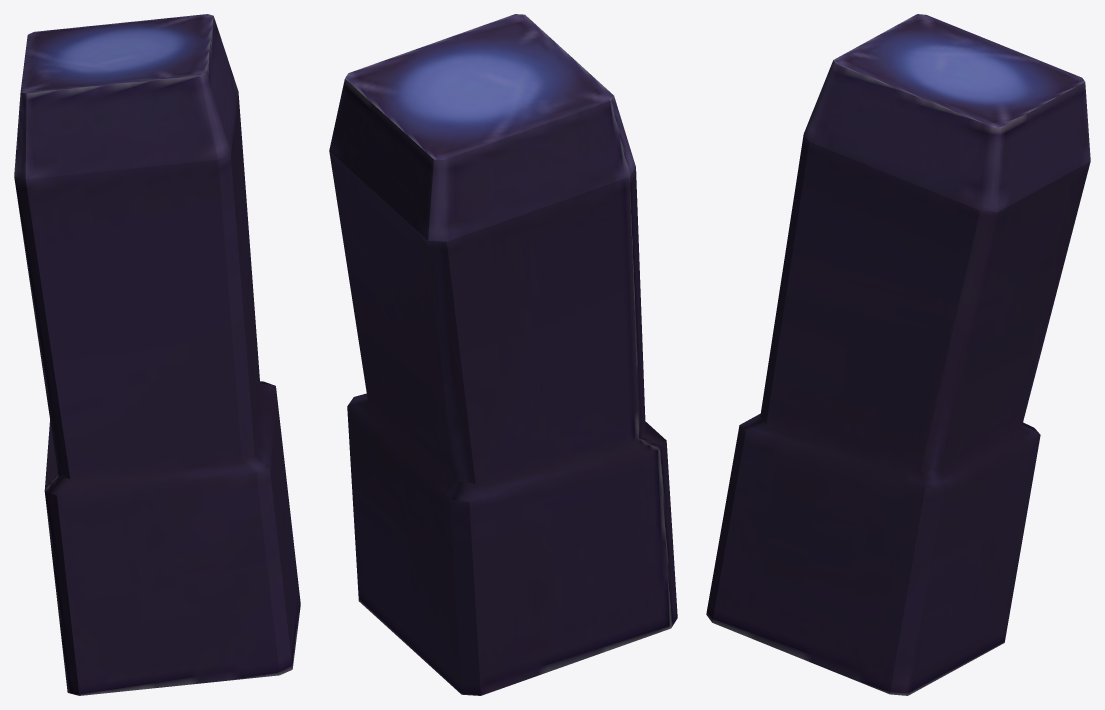
Rendered from Crypt_item_4.fbx.
The picture shows the model from 3 angles, left to right: view 1: azimuth 30°, elevation 25°; view 2: azimuth 150°, elevation 25°; view 3: azimuth 270°, elevation 25°; orthographic projection. The views are drawn at different scales.
Parts seen in each view (by area): view 1: Crypt_item_4; view 2: Crypt_item_4; view 3: Crypt_item_4.
Boxes of the visible parts, x1,y1,x2,y2 form: Crypt_item_4: (14, 14, 300, 695); Crypt_item_4: (329, 14, 677, 695); Crypt_item_4: (706, 14, 1090, 695).
Bounding box in the file's own units: 0.8438 × 1.78 × 1.04.
Materials: 1 (1 with a texture image).
